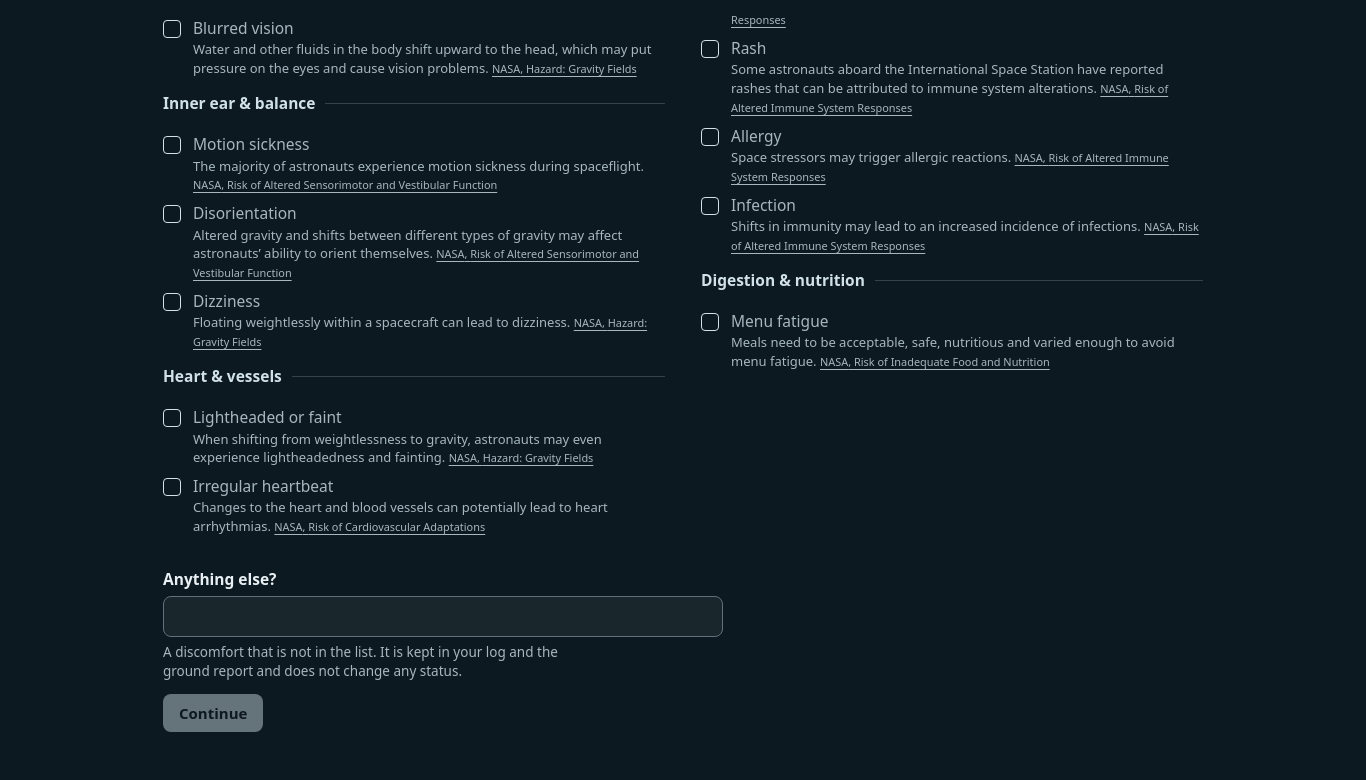
it: free text alone is a check: kept in the log, nothing to measure
The image size is (1366, 780).
(page scrolled)
Type "Sore wrist" into the field labelled "Anything else?".
click(443, 617); type("Sore wrist")  # box [163, 596, 723, 637]
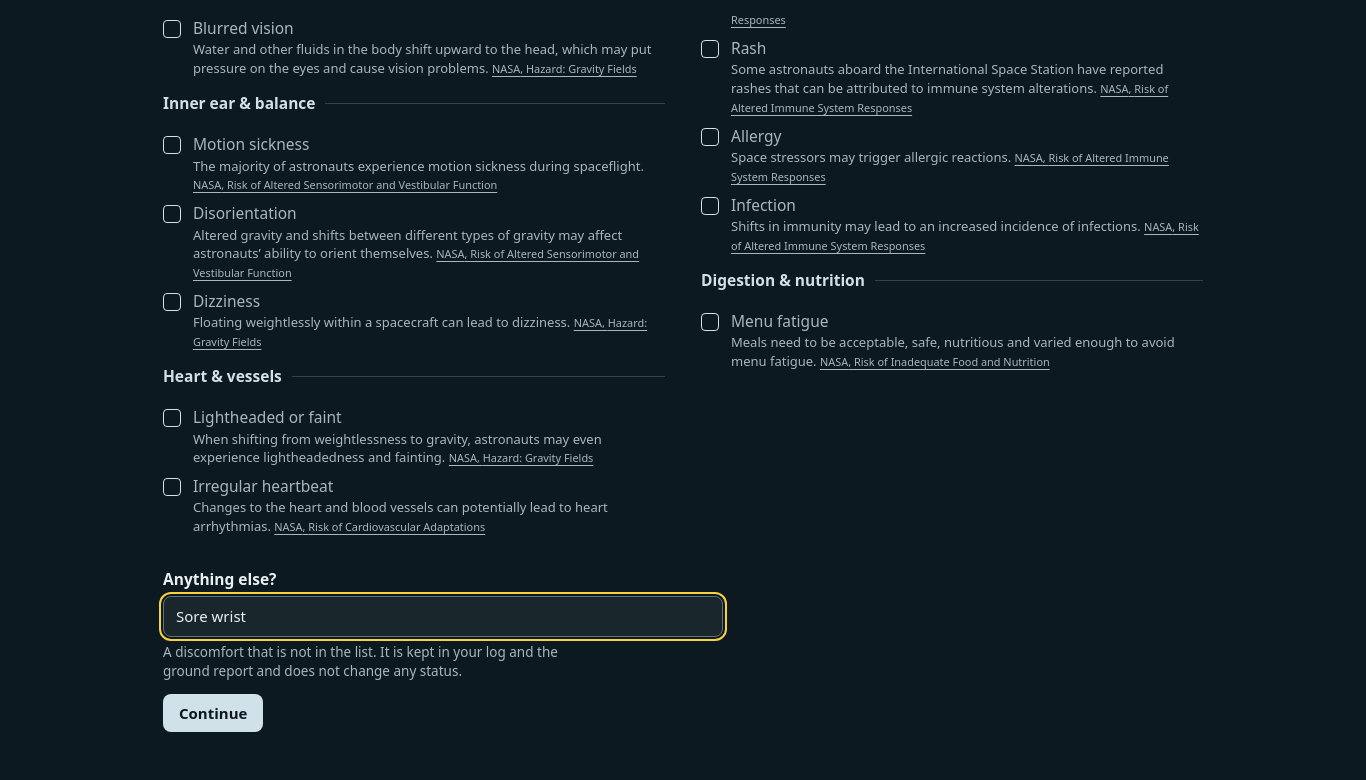
Click the button "Continue".
click(213, 713)  # box [163, 694, 263, 732]
(page scrolled)
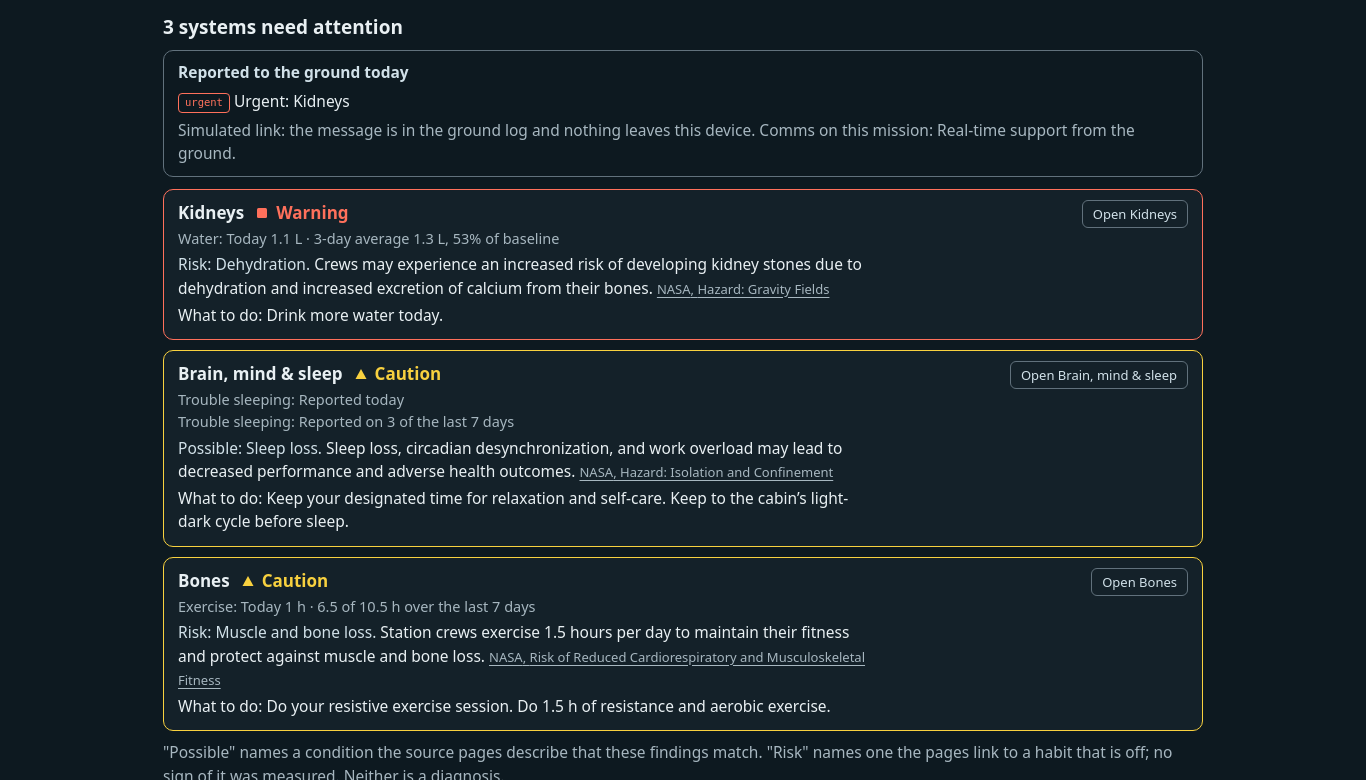
expect the element "What the check found" is shown: met
